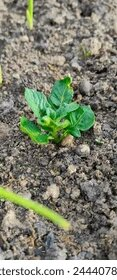potato_plant: (18, 77, 96, 144)
